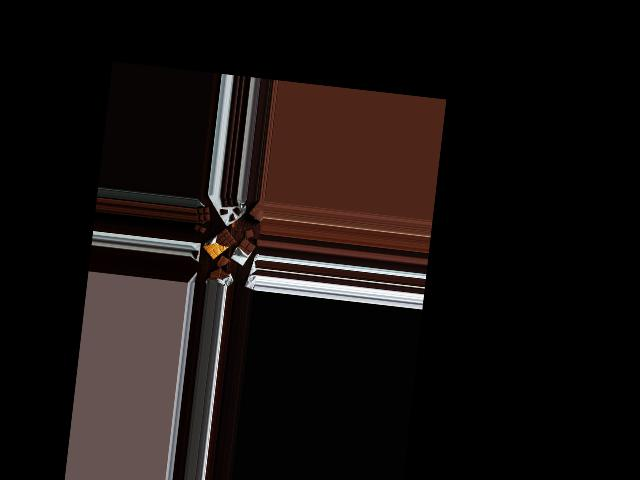chocolate: (229, 237, 258, 265)
